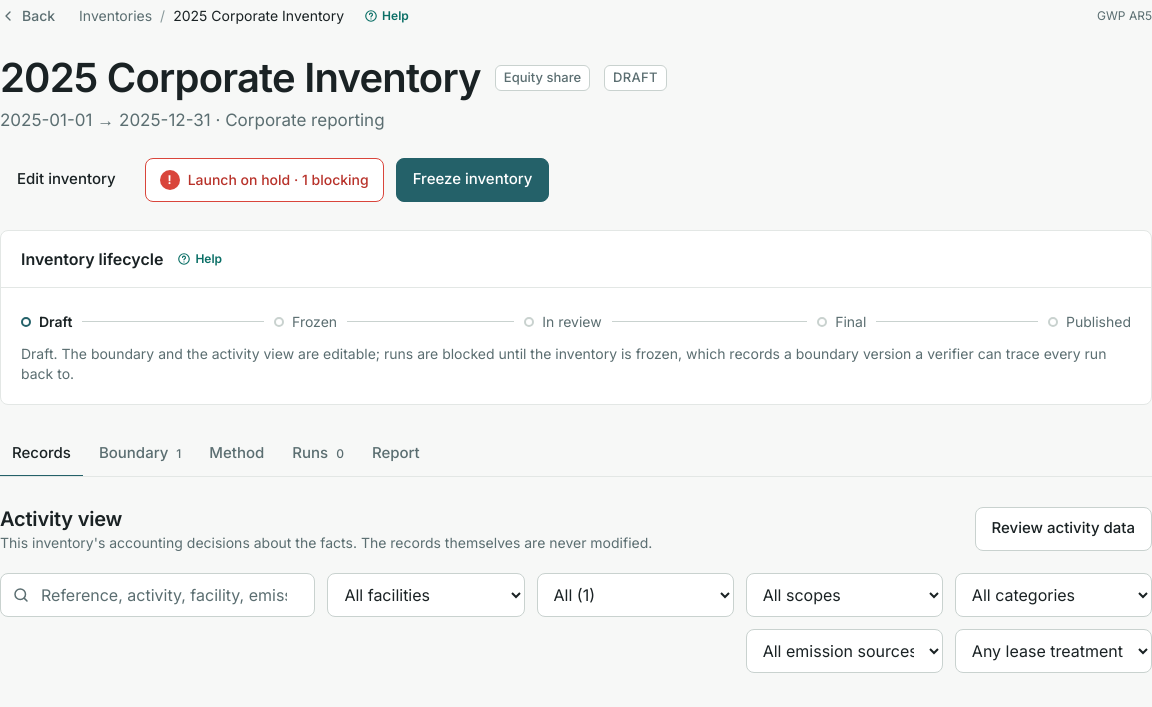
the freeze dialog shows the gate summary and is disabled while records block the freeze (spec 05.5)
Click the button "Freeze inventory".
click(473, 180)  # box [396,158,549,202]
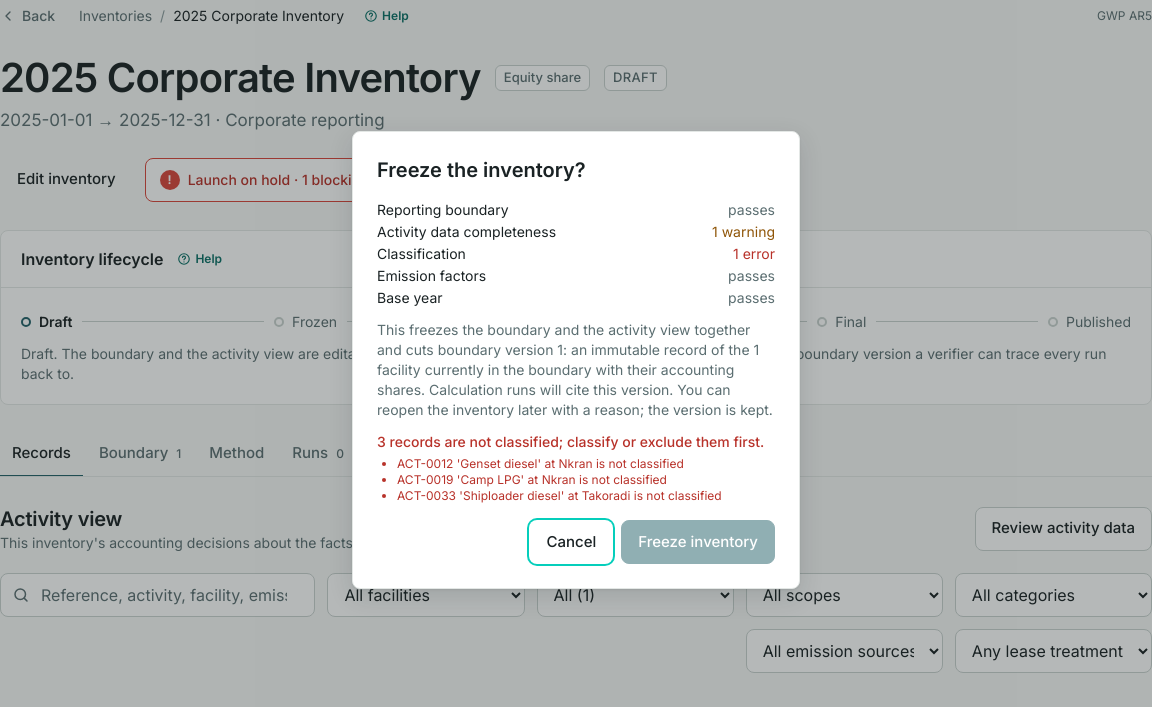
Check: the list item "Classification" shows "1 error", box [733,245,775,262]
Check: the list item "Reporting boundary" shows "passes", box [728,201,775,218]
Check: the text "3 records are not classified; classify or exclude them first." is shown, box [377,432,775,452]
